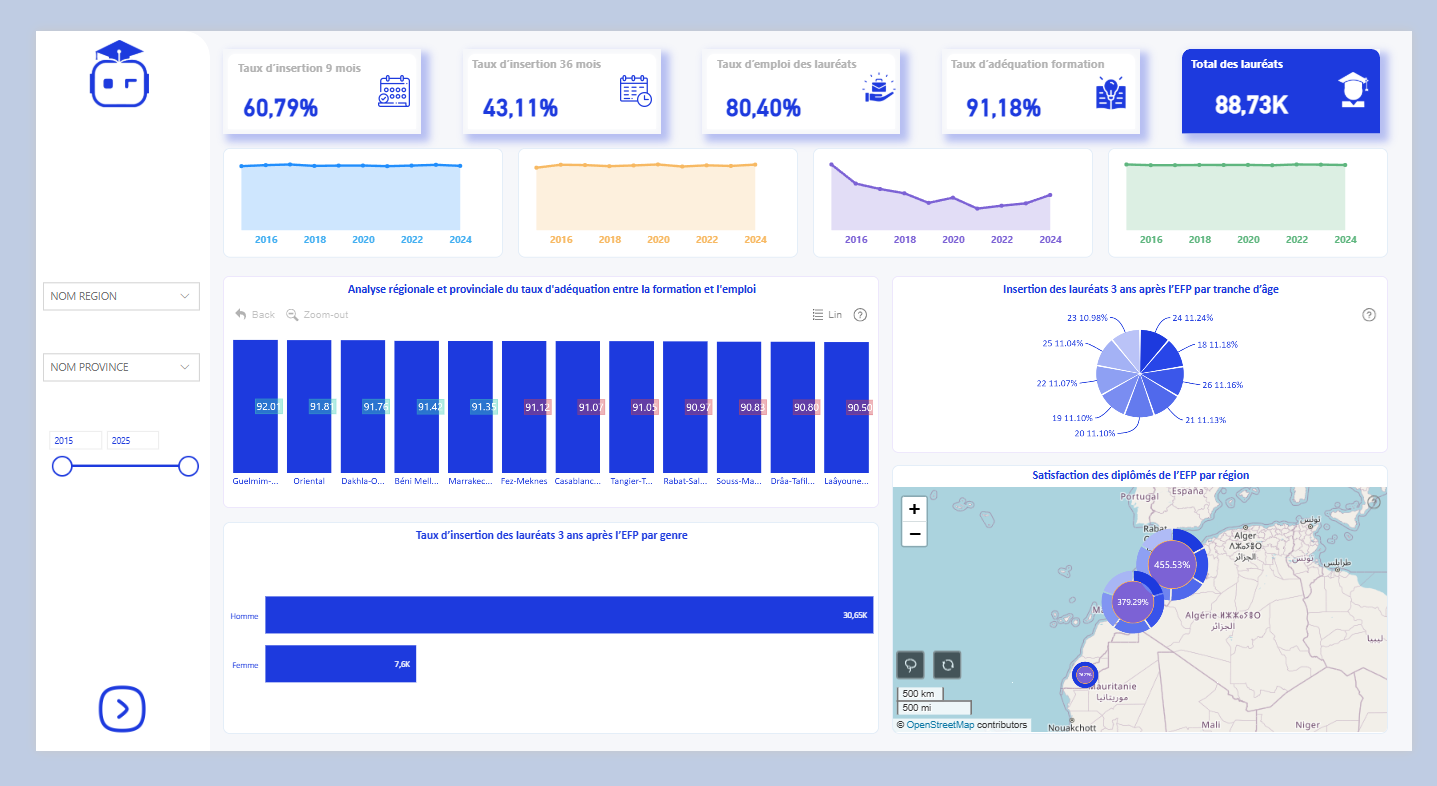

Layout of this report page (visuals, bound fields, positions):
{"tool":"powerbi","page":{"name":"DASH_1","canvas":[1720,900],"ordinal":0},"visuals":[{"type":"group","id":"g1","title":"Groupe 1","box":[233.8,22.2,247.5,106.2],"z":0},{"type":"shape","box":[233.8,22.2,247.5,106.2],"z":0,"group":"g1"},{"type":"group","id":"g2","title":"Groupe 1","box":[533.3,22.2,247.5,106.2],"z":0,"group":"g5"},{"type":"shape","box":[533.3,22.2,247.5,106.2],"z":0,"group":"g2"},{"type":"group","id":"g3","title":"Groupe 1","box":[832.8,22.2,247.5,106.2],"z":0,"group":"g7"},{"type":"shape","box":[832.8,22.2,247.5,106.2],"z":0,"group":"g3"},{"type":"shape","box":[1133,22.2,247.5,106.2],"z":0,"group":"g6"},{"type":"shape","box":[1432.5,22.5,247.5,106],"z":0,"group":"g4"},{"type":"lineChart","fields":{"Category":["DATE ENQUETE.Annee"],"Y":["Measures.Occupe_9_mois"]},"box":[233.8,146,349.9,136.9],"z":0,"group":"g10"},{"type":"SmartFilterBySQLBI1458262140625","fields":{"Values":["DIM PROVINCE.NOM REGION"]},"box":[3.8,306,207.5,156.2],"z":0,"group":"g11"},{"type":"shape","box":[0,0,217.5,900],"z":1000},{"type":"image","box":[1025.9,42.2,55,55],"z":1000,"group":"g7"},{"type":"image","box":[724.5,49.7,50,50],"z":1000,"group":"g5"},{"type":"card","fields":{"Values":["Measures.total  lauréats"]},"box":[1458.3,68,121.2,44.9],"z":1000,"group":"g4"},{"type":"lineChart","fields":{"Category":["DATE ENQUETE.Annee"],"Y":["Measures.Occupe_36_mois"]},"box":[602.6,146,349.9,136.9],"z":1000,"group":"g10"},{"type":"SmartFilterBySQLBI1458262140625","fields":{"Values":["DIM PROVINCE.NOM PROVINCE"]},"box":[3.8,394.8,207.5,156.2],"z":1000,"group":"g11"},{"type":"textbox","box":[1438.1,26.2,195,47.5],"z":2000,"group":"g4"},{"type":"lineChart","fields":{"Category":["DATE ENQUETE.Annee"],"Y":["Measures.Taux d’emploi des lauréats de la FP"]},"box":[971.4,146,349.9,136.9],"z":2000,"group":"g10"},{"type":"ZoomChartsFacetChartPaidE77E4ED357DC402ABA005987437CF500","title":"Analyse régionale et provinciale du taux d''adéquation entre la formation et l''emploi ","fields":{"Values1":["Measures.Taux d’adéquation "],"Category":["DIM PROVINCE.Hiérarchie.NOM REGION","DIM PROVINCE.Hiérarchie.NOM PROVINCE"]},"box":[233.8,306.2,820,290],"z":2000},{"type":"slicer","fields":{"Values":["DATE ENQUETE.Annee"]},"box":[3.8,489.8,207.5,75],"z":2000,"group":"g11"},{"type":"card","fields":{"Values":["Measures.Occupe_9_mois"]},"box":[247.9,71,116.2,45],"z":3000,"group":"g1"},{"type":"card","fields":{"Values":["Measures.Occupe_36_mois"]},"box":[547.4,71,116.2,45],"z":3000,"group":"g2"},{"type":"card","fields":{"Values":["Measures.Taux d’emploi des lauréats de la FP"]},"box":[849,71,121.2,45],"z":3000,"group":"g3"},{"type":"card","fields":{"Values":["Measures.Taux d’adéquation "]},"box":[1149.2,71,121.2,45],"z":3000,"group":"g6"},{"type":"lineChart","fields":{"Category":["DATE ENQUETE.Annee"],"Y":["Measures.Taux d’adéquation "]},"box":[1340.2,146,349.9,136.9],"z":3000,"group":"g10"},{"type":"ZoomChartsDrillDownMapPro6AFEEB10499543F282BD06EF315D5EAA","title":"Satisfaction des diplômés de l’EFP par région","fields":{"latitude":["DIM PROVINCE.Lat"],"longitude":["DIM PROVINCE.Lon"],"value":["Measures.Satisfaction_des_diplomes"]},"box":[1070,542.5,620,336.2],"z":3000},{"type":"image","box":[46.2,6.2,115,93.8],"z":4000},{"type":"group","id":"g4","title":"Groupe 1","box":[1432.5,22.5,247.5,106],"z":4000,"group":"g9"},{"type":"textbox","box":[539.2,25.6,196.2,50],"z":4000,"group":"g2"},{"type":"textbox","box":[846.4,26,223.8,50],"z":4000,"group":"g3"},{"type":"textbox","box":[1138.9,26,216.2,50],"z":4000,"group":"g6"},{"type":"textbox","box":[247.6,31,176.2,45],"z":4000,"group":"g1"},{"type":"group","id":"g5","title":"Groupe 2","box":[533.3,22.2,247.5,106.2],"z":5000},{"type":"image","box":[422.6,49.7,50,50],"z":5000,"group":"g1"},{"type":"group","id":"g6","title":"Groupe 1","box":[1133,22.2,247.5,106.2],"z":5006,"group":"g8"},{"type":"image","box":[1316.8,49.7,55,55],"z":5011,"group":"g8"},{"type":"group","id":"g7","title":"Groupe 3","box":[832.8,22.2,248.1,106.2],"z":6000},{"type":"group","id":"g8","title":"Groupe 4","box":[1133,22.2,247.5,106.2],"z":7000},{"type":"image","box":[1618.7,45.6,55,53.6],"z":7000,"group":"g9"},{"type":"group","id":"g9","title":"Groupe 5","box":[1432.5,22.5,247.5,106],"z":8000},{"type":"group","id":"g10","title":"Groupe 6","box":[233.8,146,1456.2,136.9],"z":9000},{"type":"ZoomChartsDrillDownPieProC062D62DA5CE45ECB95B7B1D0E5DA558","title":"Insertion des lauréats 3 ans après l’EFP par tranche d’âge","fields":{"Category":["Dim ENQUETE LAUREAT.AGE"],"Values":["Measures.Occupe_36_mois"]},"box":[1070,306.2,620,221.2],"z":10000},{"type":"barChart","title":"Taux d’insertion des lauréats 3 ans après l’EFP par genre","fields":{"Y":["FACT ENQUETE LAUREAT.Q2"],"Category":["Dim ENQUETE LAUREAT.Sex T"]},"box":[233.8,613.8,820,265],"z":11000},{"type":"group","id":"g11","title":"Groupe 7","box":[3.8,306,207.5,258.8],"z":12000},{"type":"image","box":[58.8,807.5,97.5,80],"z":13000}]}

Visuals, with their boxes on the page's 1720x900 design canvas (x1, y1, x2, y2). These are canvas units, not pixel positions in the 1437x786 screenshot, which may show the page scaled, cropped or inside an application window:
"Groupe 1" group: pyautogui.locateOnScreen(234, 22, 481, 128)
shape: pyautogui.locateOnScreen(234, 22, 481, 128)
"Groupe 1" group: pyautogui.locateOnScreen(533, 22, 781, 128)
shape: pyautogui.locateOnScreen(533, 22, 781, 128)
"Groupe 1" group: pyautogui.locateOnScreen(833, 22, 1080, 128)
shape: pyautogui.locateOnScreen(833, 22, 1080, 128)
shape: pyautogui.locateOnScreen(1133, 22, 1380, 128)
shape: pyautogui.locateOnScreen(1432, 22, 1680, 128)
lineChart - DATE ENQUETE.Annee x Measures.Occupe_9_mois: pyautogui.locateOnScreen(234, 146, 584, 283)
SmartFilterBySQLBI1458262140625 - DIM PROVINCE.NOM REGION: pyautogui.locateOnScreen(4, 306, 211, 462)
shape: pyautogui.locateOnScreen(0, 0, 218, 900)
image: pyautogui.locateOnScreen(1026, 42, 1081, 97)
image: pyautogui.locateOnScreen(724, 50, 774, 100)
card - Measures.total  lauréats: pyautogui.locateOnScreen(1458, 68, 1580, 113)
lineChart - DATE ENQUETE.Annee x Measures.Occupe_36_mois: pyautogui.locateOnScreen(603, 146, 952, 283)
SmartFilterBySQLBI1458262140625 - DIM PROVINCE.NOM PROVINCE: pyautogui.locateOnScreen(4, 395, 211, 551)
textbox: pyautogui.locateOnScreen(1438, 26, 1633, 74)
lineChart - DATE ENQUETE.Annee x Measures.Taux d’emploi des lauréats de la FP: pyautogui.locateOnScreen(971, 146, 1321, 283)
"Analyse régionale et provinciale du taux d''adéquation entre la formation et l''emploi " ZoomChartsFacetChartPaidE77E4ED357DC402ABA005987437CF500: pyautogui.locateOnScreen(234, 306, 1054, 596)
slicer - DATE ENQUETE.Annee: pyautogui.locateOnScreen(4, 490, 211, 565)
card - Measures.Occupe_9_mois: pyautogui.locateOnScreen(248, 71, 364, 116)
card - Measures.Occupe_36_mois: pyautogui.locateOnScreen(547, 71, 664, 116)
card - Measures.Taux d’emploi des lauréats de la FP: pyautogui.locateOnScreen(849, 71, 970, 116)
card - Measures.Taux d’adéquation : pyautogui.locateOnScreen(1149, 71, 1270, 116)
lineChart - DATE ENQUETE.Annee x Measures.Taux d’adéquation : pyautogui.locateOnScreen(1340, 146, 1690, 283)
"Satisfaction des diplômés de l’EFP par région" ZoomChartsDrillDownMapPro6AFEEB10499543F282BD06EF315D5EAA: pyautogui.locateOnScreen(1070, 542, 1690, 879)
image: pyautogui.locateOnScreen(46, 6, 161, 100)
"Groupe 1" group: pyautogui.locateOnScreen(1432, 22, 1680, 128)
textbox: pyautogui.locateOnScreen(539, 26, 735, 76)
textbox: pyautogui.locateOnScreen(846, 26, 1070, 76)
textbox: pyautogui.locateOnScreen(1139, 26, 1355, 76)
textbox: pyautogui.locateOnScreen(248, 31, 424, 76)
"Groupe 2" group: pyautogui.locateOnScreen(533, 22, 781, 128)
image: pyautogui.locateOnScreen(423, 50, 473, 100)
"Groupe 1" group: pyautogui.locateOnScreen(1133, 22, 1380, 128)
image: pyautogui.locateOnScreen(1317, 50, 1372, 105)
"Groupe 3" group: pyautogui.locateOnScreen(833, 22, 1081, 128)
"Groupe 4" group: pyautogui.locateOnScreen(1133, 22, 1380, 128)
image: pyautogui.locateOnScreen(1619, 46, 1674, 99)
"Groupe 5" group: pyautogui.locateOnScreen(1432, 22, 1680, 128)
"Groupe 6" group: pyautogui.locateOnScreen(234, 146, 1690, 283)
"Insertion des lauréats 3 ans après l’EFP par tranche d’âge" ZoomChartsDrillDownPieProC062D62DA5CE45ECB95B7B1D0E5DA558: pyautogui.locateOnScreen(1070, 306, 1690, 527)
"Taux d’insertion des lauréats 3 ans après l’EFP par genre" barChart: pyautogui.locateOnScreen(234, 614, 1054, 879)
"Groupe 7" group: pyautogui.locateOnScreen(4, 306, 211, 565)
image: pyautogui.locateOnScreen(59, 808, 156, 888)
